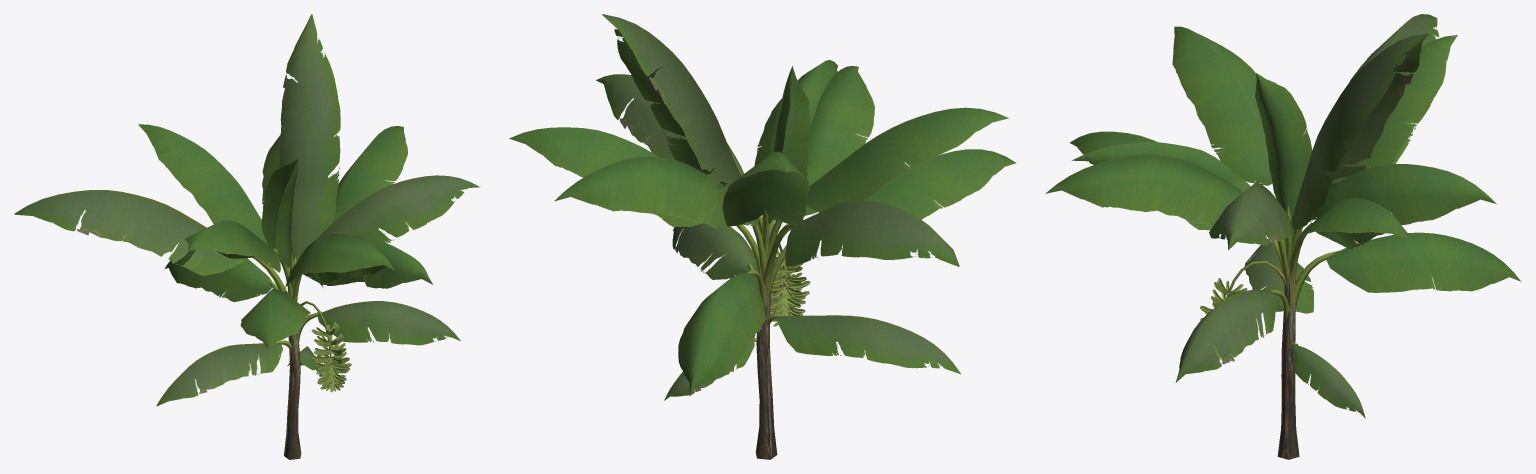
Rendered from MusaAcuminata.glb.
3 renders of one model, left to right at view 1: azimuth 30°, elevation 25°; view 2: azimuth 150°, elevation 25°; view 3: azimuth 270°, elevation 25°, orthographic. The views are drawn at different scales.
Visible parts, largest first — view 1: Banana_Tree__Realistic_LOD3; view 2: Banana_Tree__Realistic_LOD3; view 3: Banana_Tree__Realistic_LOD3.
Part boxes in pixels (x1=…): Banana_Tree__Realistic_LOD3: x1=14, y1=14, x2=480, y2=459; Banana_Tree__Realistic_LOD3: x1=509, y1=14, x2=1015, y2=459; Banana_Tree__Realistic_LOD3: x1=1045, y1=14, x2=1521, y2=459.
Bounding box in the file's own units: 5.04 × 4.83 × 4.46.
Materials: 1 (1 with a texture image).
